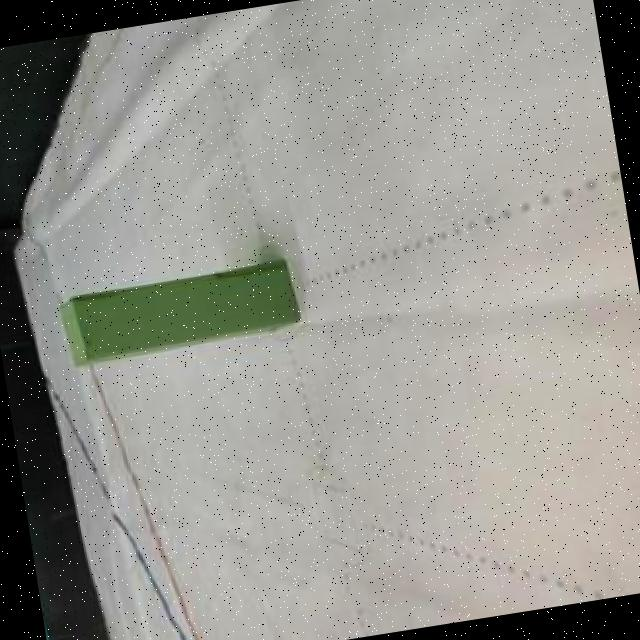greenbox: (54, 255, 303, 366)
